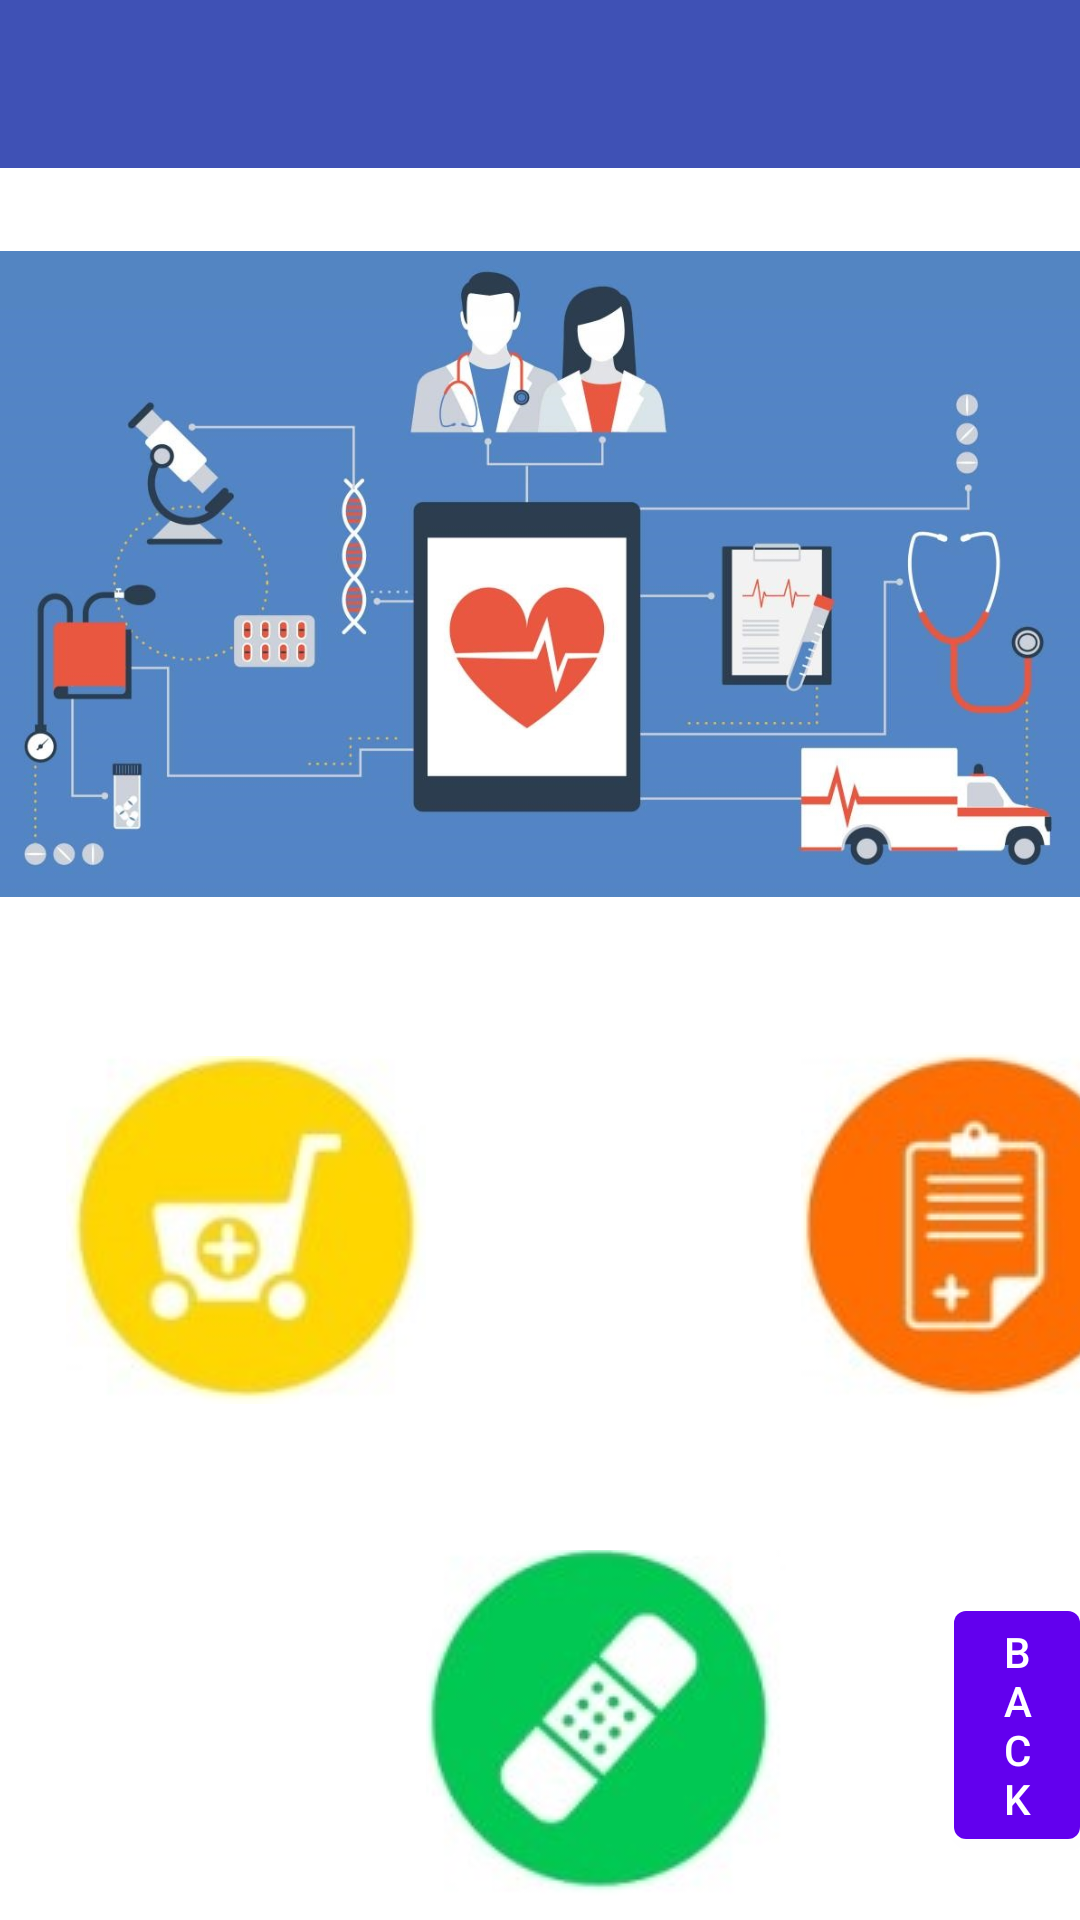

Icons on this 1080*1920 Android screen, each with its box as (x1=x1, y1=y1, x2=x2, y2=y2):
treatment: (x1=428, y1=1550, x2=770, y2=1890)
